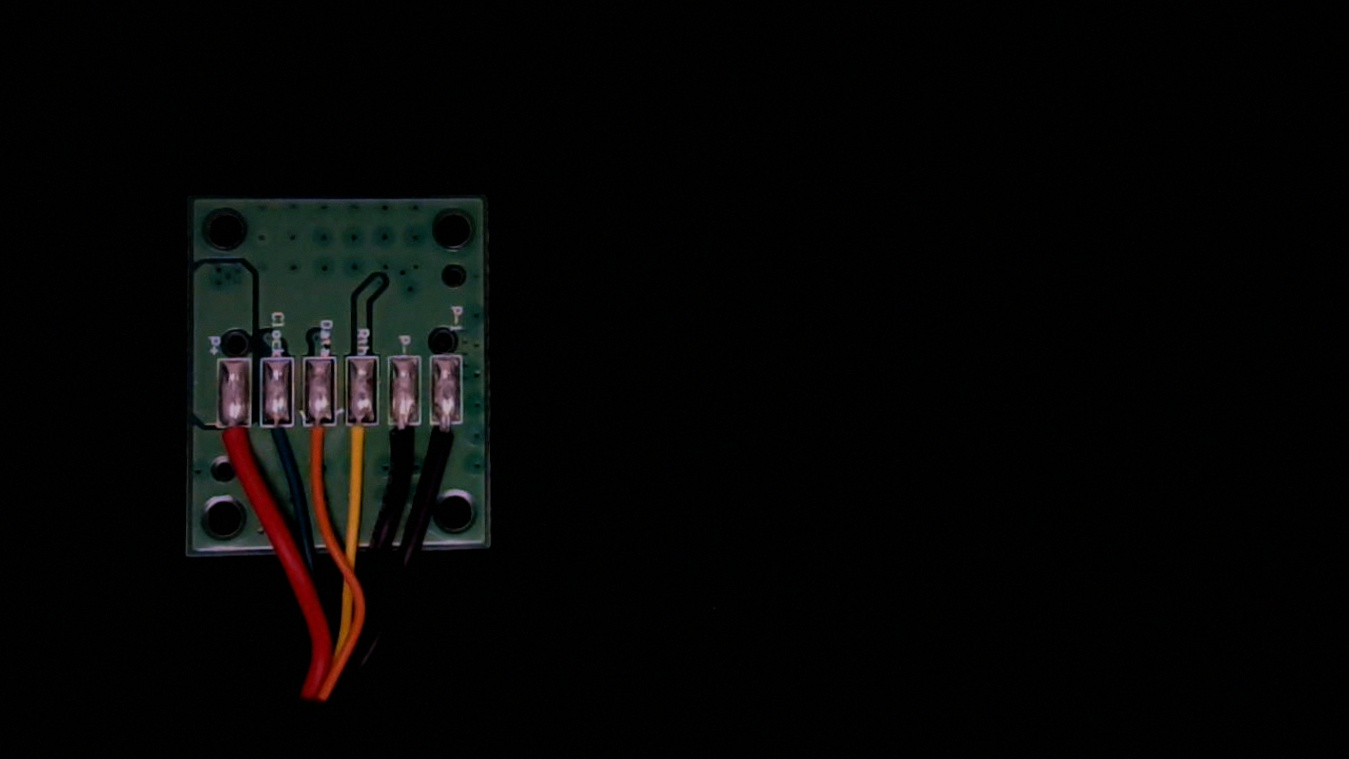Black: (388, 411, 421, 474)
Black1: (430, 409, 462, 473)
Green: (258, 411, 294, 472)
Orange: (304, 411, 334, 475)
Red: (215, 411, 251, 477)
Yellow: (344, 411, 379, 478)
